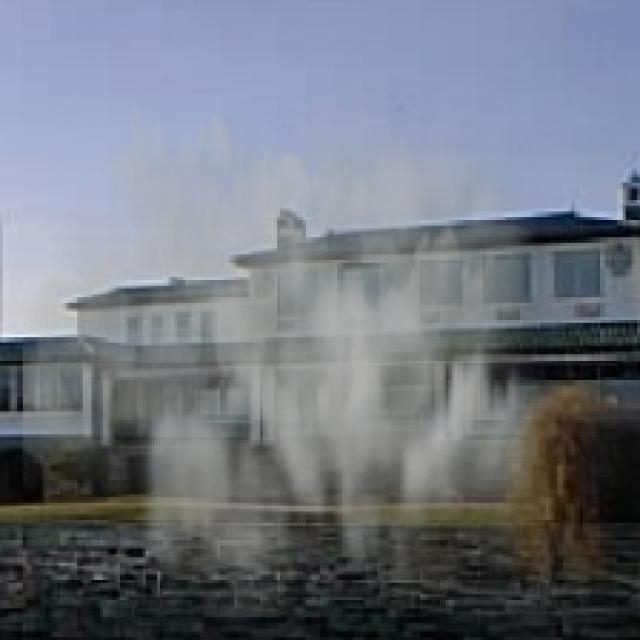Smoke: (22, 48, 578, 618)
